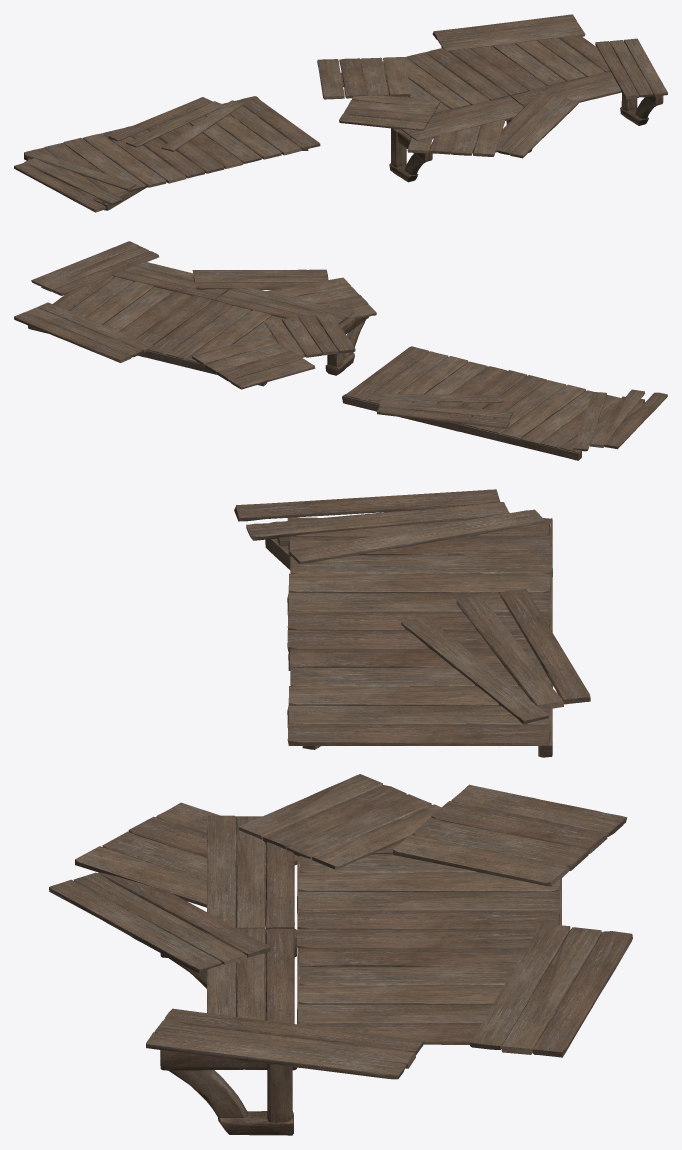
Rendered from Floor_Platforms_A1.fbx.
3 views of the same model, one above another, from view 1: azimuth 30°, elevation 25°; view 2: azimuth 150°, elevation 25°; view 3: azimuth 270°, elevation 25° (orthographic). The views are drawn at different scales.
Parts seen in each view (by area): view 1: Floor_Platforms_A2, Floor_Platforms_A1, Floor_Platforms_A2.001, Floor_Platforms_A1.001; view 2: Floor_Platforms_A2, Floor_Platforms_A1, Floor_Platforms_A2.001, Floor_Platforms_A1.001; view 3: Floor_Platforms_A2, Floor_Platforms_A1, Floor_Platforms_A2.001, Floor_Platforms_A1.001.
Boxes of the visible parts, x1,y1,x2,y2 form: Floor_Platforms_A2: [317, 14, 667, 182]; Floor_Platforms_A1: [15, 96, 320, 212]; Floor_Platforms_A2.001: [317, 14, 667, 181]; Floor_Platforms_A1.001: [14, 96, 319, 212]; Floor_Platforms_A2: [15, 241, 376, 389]; Floor_Platforms_A1: [342, 347, 667, 460]; Floor_Platforms_A2.001: [14, 243, 376, 389]; Floor_Platforms_A1.001: [342, 346, 667, 460]; Floor_Platforms_A2: [49, 774, 632, 1135]; Floor_Platforms_A1: [234, 489, 590, 757]; Floor_Platforms_A2.001: [49, 774, 632, 1135]; Floor_Platforms_A1.001: [235, 489, 590, 757].
Size of the model in its own units: 1558 by 120 by 658.
